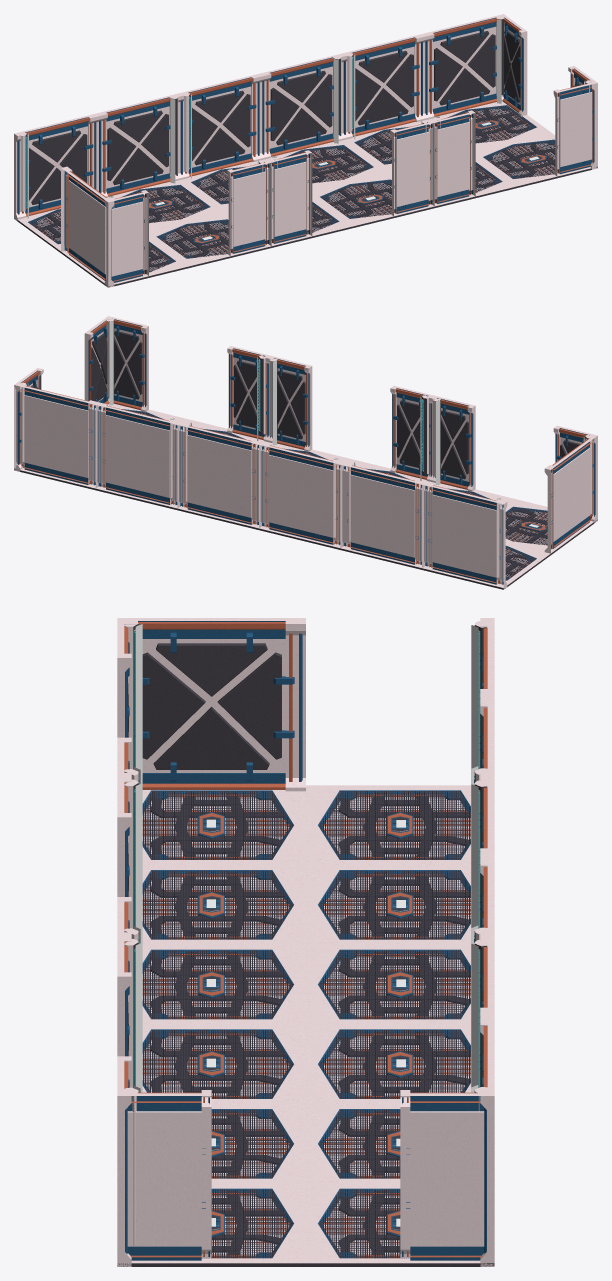
File: StartRoom.fbx
3 views of the same model, one above another, from view 1: azimuth 30°, elevation 25°; view 2: azimuth 150°, elevation 25°; view 3: azimuth 270°, elevation 25° (orthographic). The views are drawn at different scales.
Visible parts, largest first — view 1: MeshBaker__0_00___30_00___30_00__mesh_mesh, AreaLight__5__1, AreaLight__5_, AreaLight__5__2; view 2: MeshBaker__0_00___30_00___30_00__mesh_mesh, AreaLight__07__1, AreaLight__07__2, AreaLight__07_; view 3: MeshBaker__0_00___30_00___30_00__mesh_mesh, AreaLight__22_, AreaLight__22__1, AreaLight__22__2, AreaLight__6_, AreaLight__6__1, AreaLight__6__2.
Boxes of the visible parts, bbox=[...] form: MeshBaker__0_00___30_00___30_00__mesh_mesh: bbox=[14, 14, 597, 287]; AreaLight__5__1: bbox=[170, 99, 175, 183]; AreaLight__5_: bbox=[334, 59, 338, 143]; AreaLight__5__2: bbox=[497, 19, 501, 103]; MeshBaker__0_00___30_00___30_00__mesh_mesh: bbox=[14, 316, 597, 589]; AreaLight__07__1: bbox=[435, 401, 440, 484]; AreaLight__07__2: bbox=[109, 321, 113, 405]; AreaLight__07_: bbox=[272, 361, 276, 445]; MeshBaker__0_00___30_00___30_00__mesh_mesh: bbox=[117, 618, 494, 1266]; AreaLight__22_: bbox=[471, 784, 478, 927]; AreaLight__22__1: bbox=[471, 625, 478, 768]; AreaLight__22__2: bbox=[471, 944, 478, 1087]; AreaLight__6_: bbox=[136, 783, 142, 942]; AreaLight__6__1: bbox=[136, 624, 142, 783]; AreaLight__6__2: bbox=[136, 943, 142, 1092].
Size of the model in its own units: 2400 by 402 by 800.
